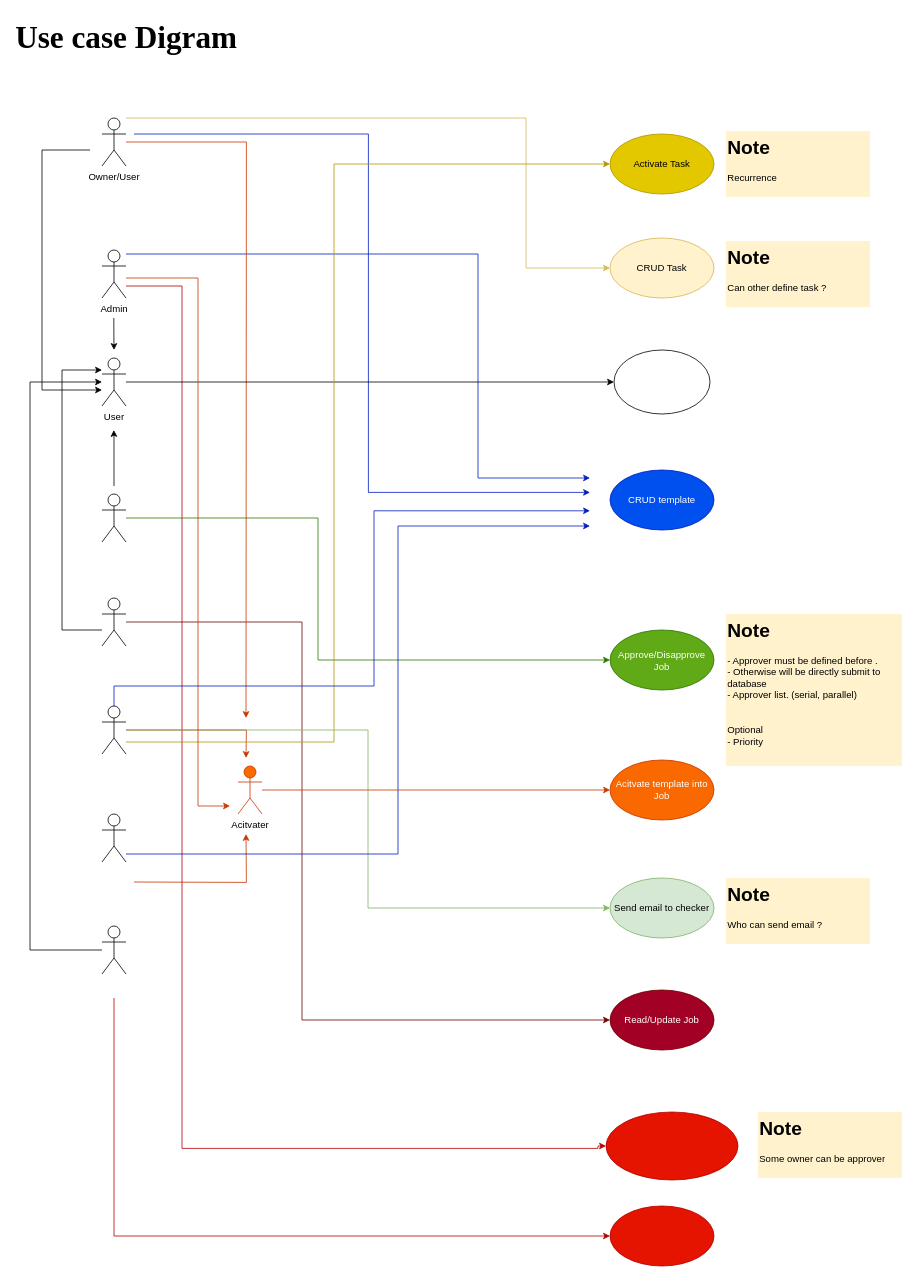
Some shapes in this 915 by 1280 pixel diagram are drawn without their labels. The centre of each missing label's shape, as x and y in pixels:
Approver: point 113,517
Checker: point 113,621
Define Additonal Role define account type: point 671,1145
Log-In/Sign-Up: point 661,381
Manage All accounts: point 661,1235
Master plan: point 113,837
schedule: point 113,729
Super Admin: point 113,949
